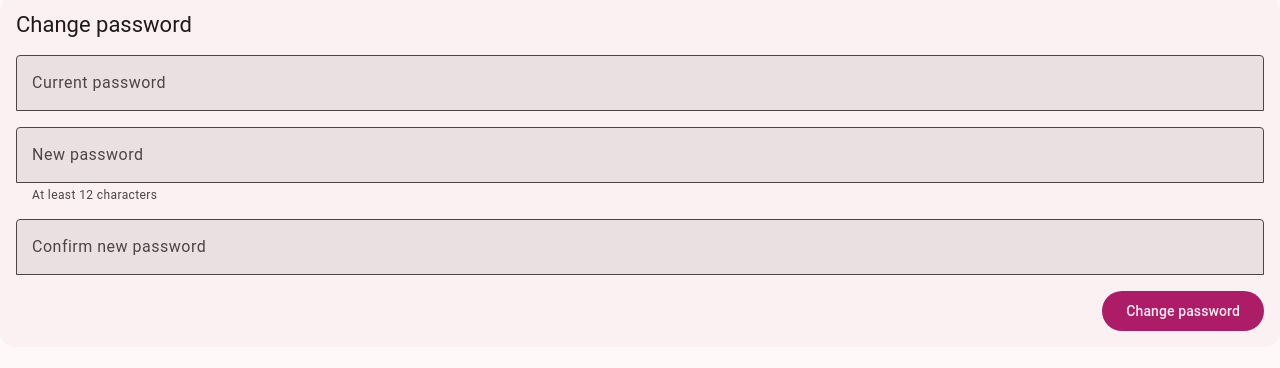
Scenario: PasswordCard › sends nothing when the confirmation differs
Type "old-password-12" into the password field with id "account-current-password".
click(640, 83); type("old-password-12")  # box [16,55,1264,111]
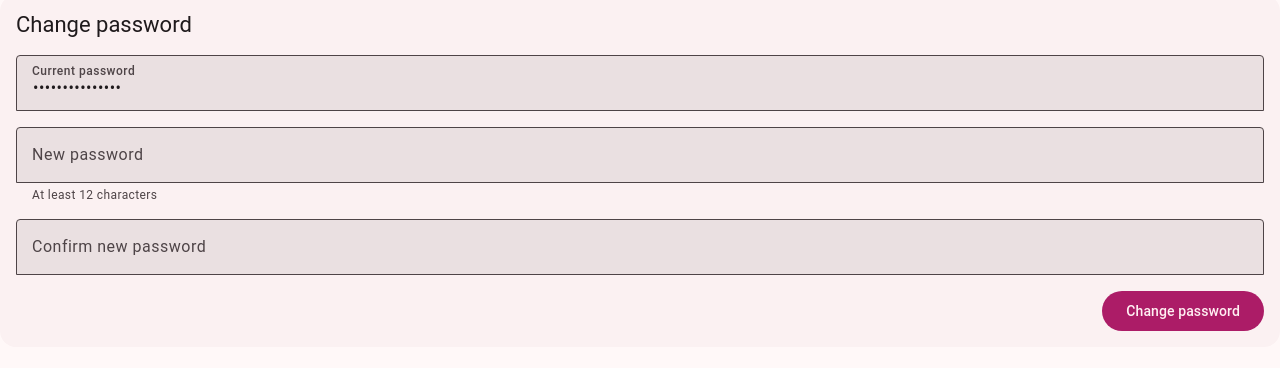
Type "new-password-123" into the password field with id "account-new-password".
click(640, 155); type("new-password-123")  # box [16,127,1264,183]
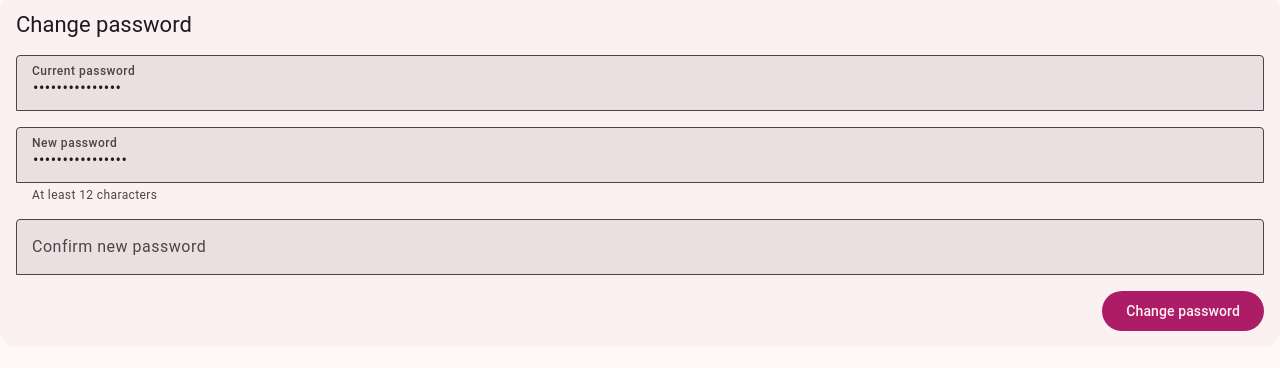
Type "new-password-124" into the password field with id "account-confirm-password".
click(640, 247); type("new-password-124")  # box [16,219,1264,275]
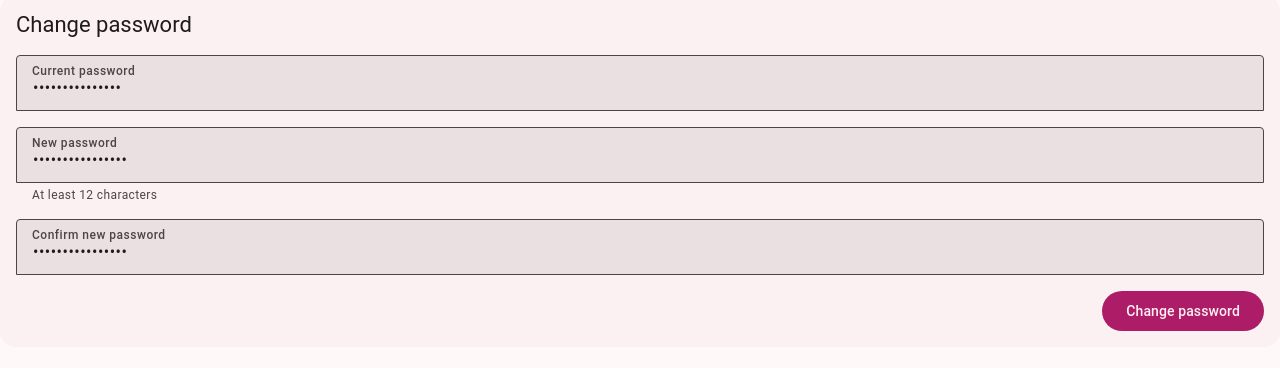
Submit the form
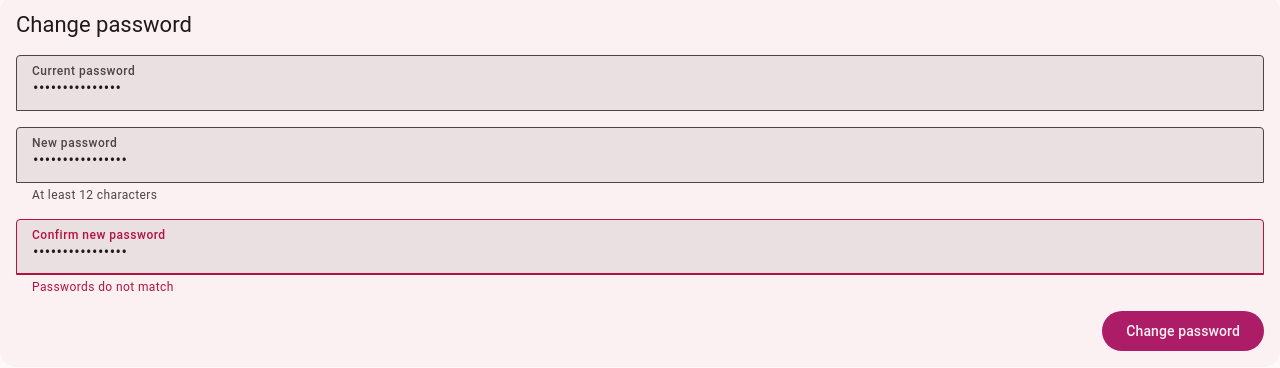
Check: the text "Passwords do not match" is shown, box [32,280,174,294]
